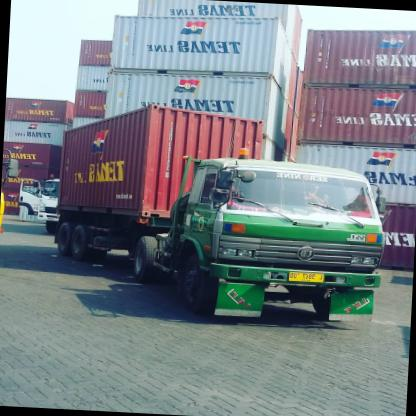truck: (168, 157, 391, 331)
